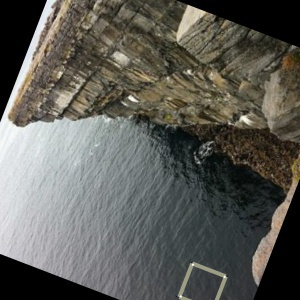square: (176, 261, 233, 300)
